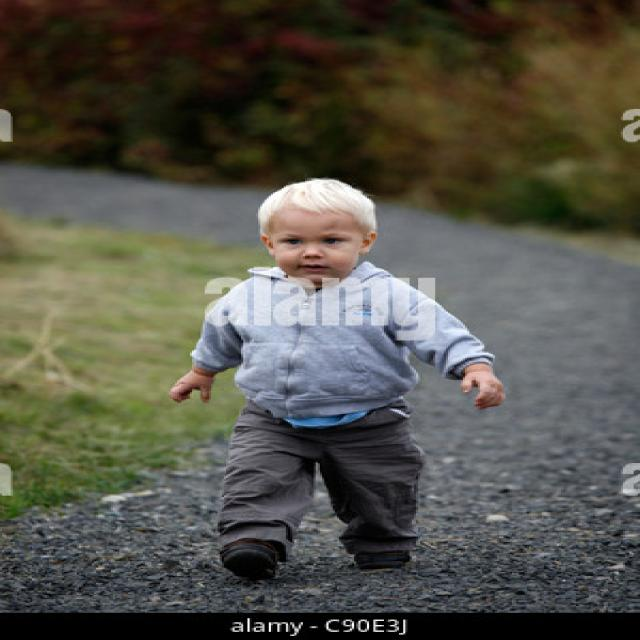Person: (169, 178, 508, 578)
